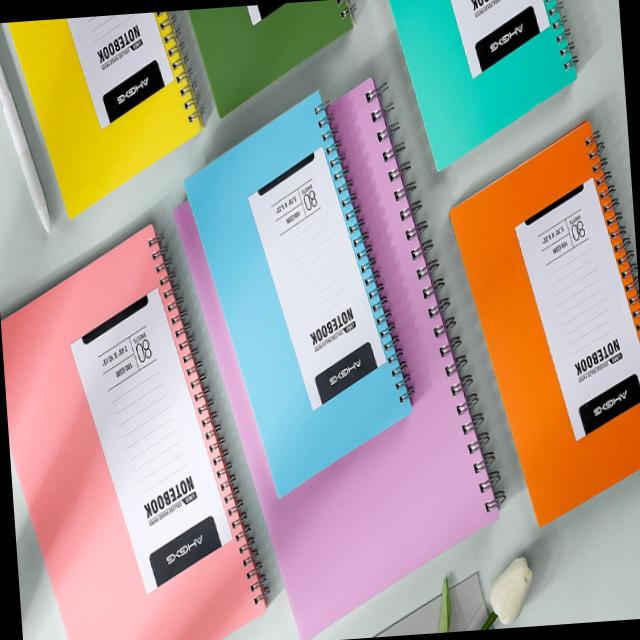notebook: (0, 197, 290, 640), (170, 72, 430, 512), (437, 103, 640, 553)
